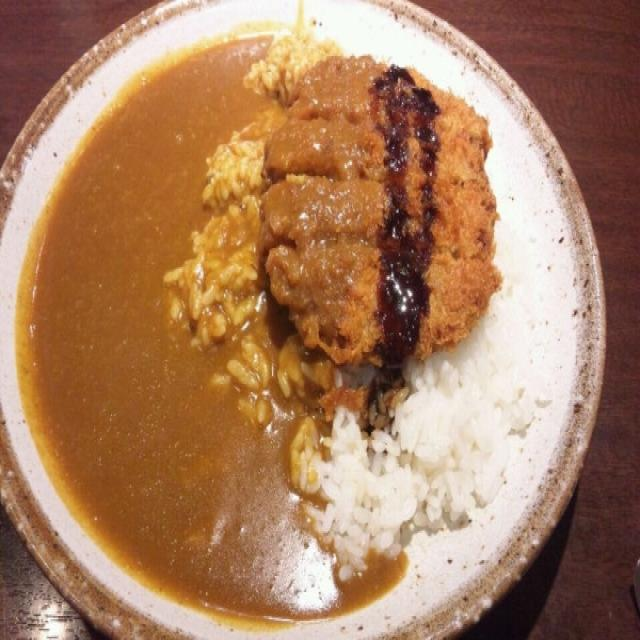炸货点心: (250, 56, 503, 368)
